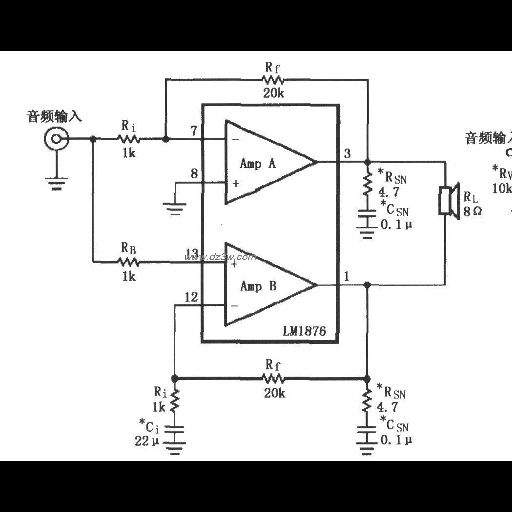amplifier: (219, 116, 323, 207), (221, 238, 324, 327)
capacitor: (161, 422, 188, 434), (352, 423, 379, 435), (356, 206, 378, 220)
gnd: (41, 174, 72, 193), (159, 201, 190, 218), (161, 441, 191, 457), (354, 439, 379, 457), (353, 226, 380, 242)
loudspeaker: (434, 177, 462, 225)
secondresistance: (112, 252, 144, 270), (356, 386, 374, 416), (111, 131, 146, 146), (359, 168, 374, 201), (255, 73, 290, 87), (168, 385, 182, 418), (256, 372, 292, 384)
